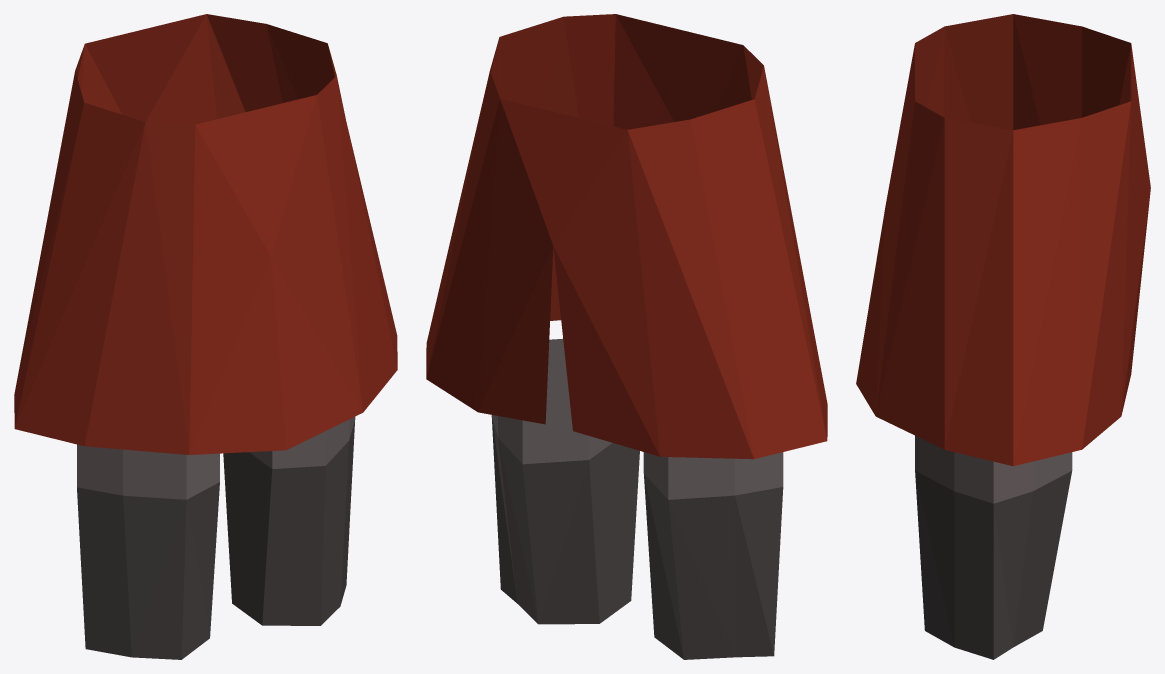
Rendered from npc_world_chaos_dwarf_1.obj.
3 views of the same model, side by side, from view 1: azimuth 30°, elevation 25°; view 2: azimuth 150°, elevation 25°; view 3: azimuth 270°, elevation 25° (orthographic). The views are drawn at different scales.
Size of the model in its own units: 0.3438 by 0.4609 by 0.2344.
